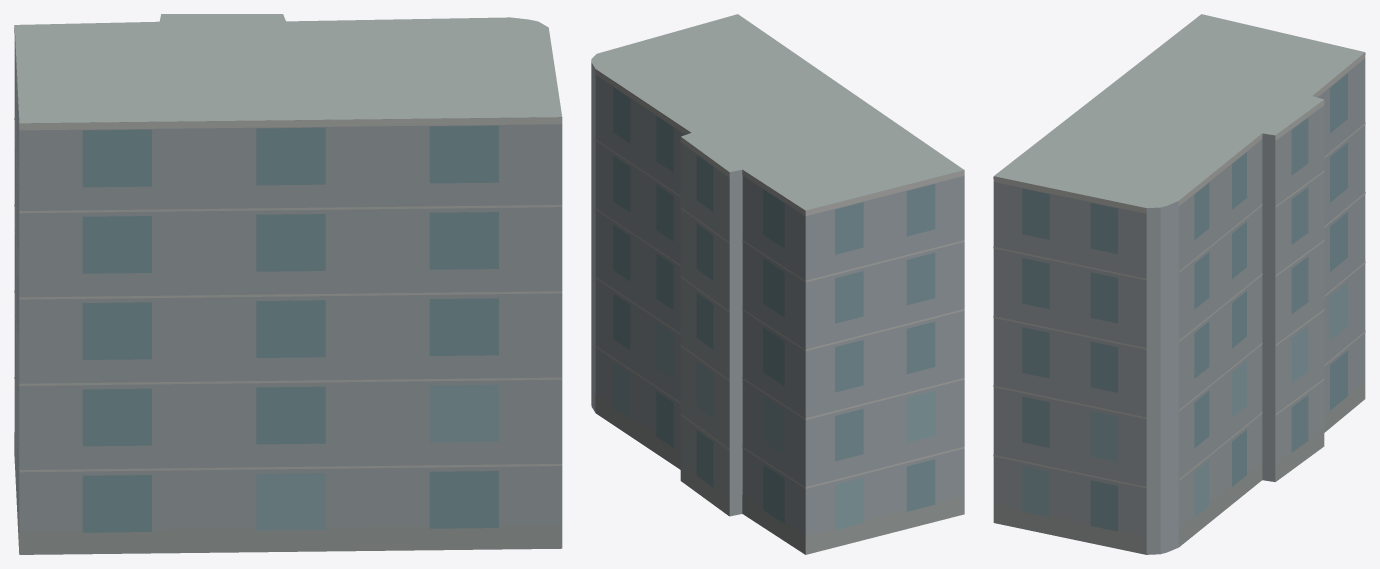
Rendered from survey-upis-32714637.glb.
3 views of the same model, side by side, from view 1: azimuth 30°, elevation 25°; view 2: azimuth 150°, elevation 25°; view 3: azimuth 270°, elevation 25° (orthographic). The views are drawn at different scales.
Parts seen in each view (by area): view 1: survey-upis-32714637.tmp; view 2: survey-upis-32714637.tmp; view 3: survey-upis-32714637.tmp.
Part boxes in pixels (x1=…): survey-upis-32714637.tmp: x1=14, y1=14, x2=562, y2=554; survey-upis-32714637.tmp: x1=591, y1=14, x2=964, y2=554; survey-upis-32714637.tmp: x1=993, y1=14, x2=1365, y2=554.
Size of the model in its own units: 17.79 by 14.8 by 14.4.
